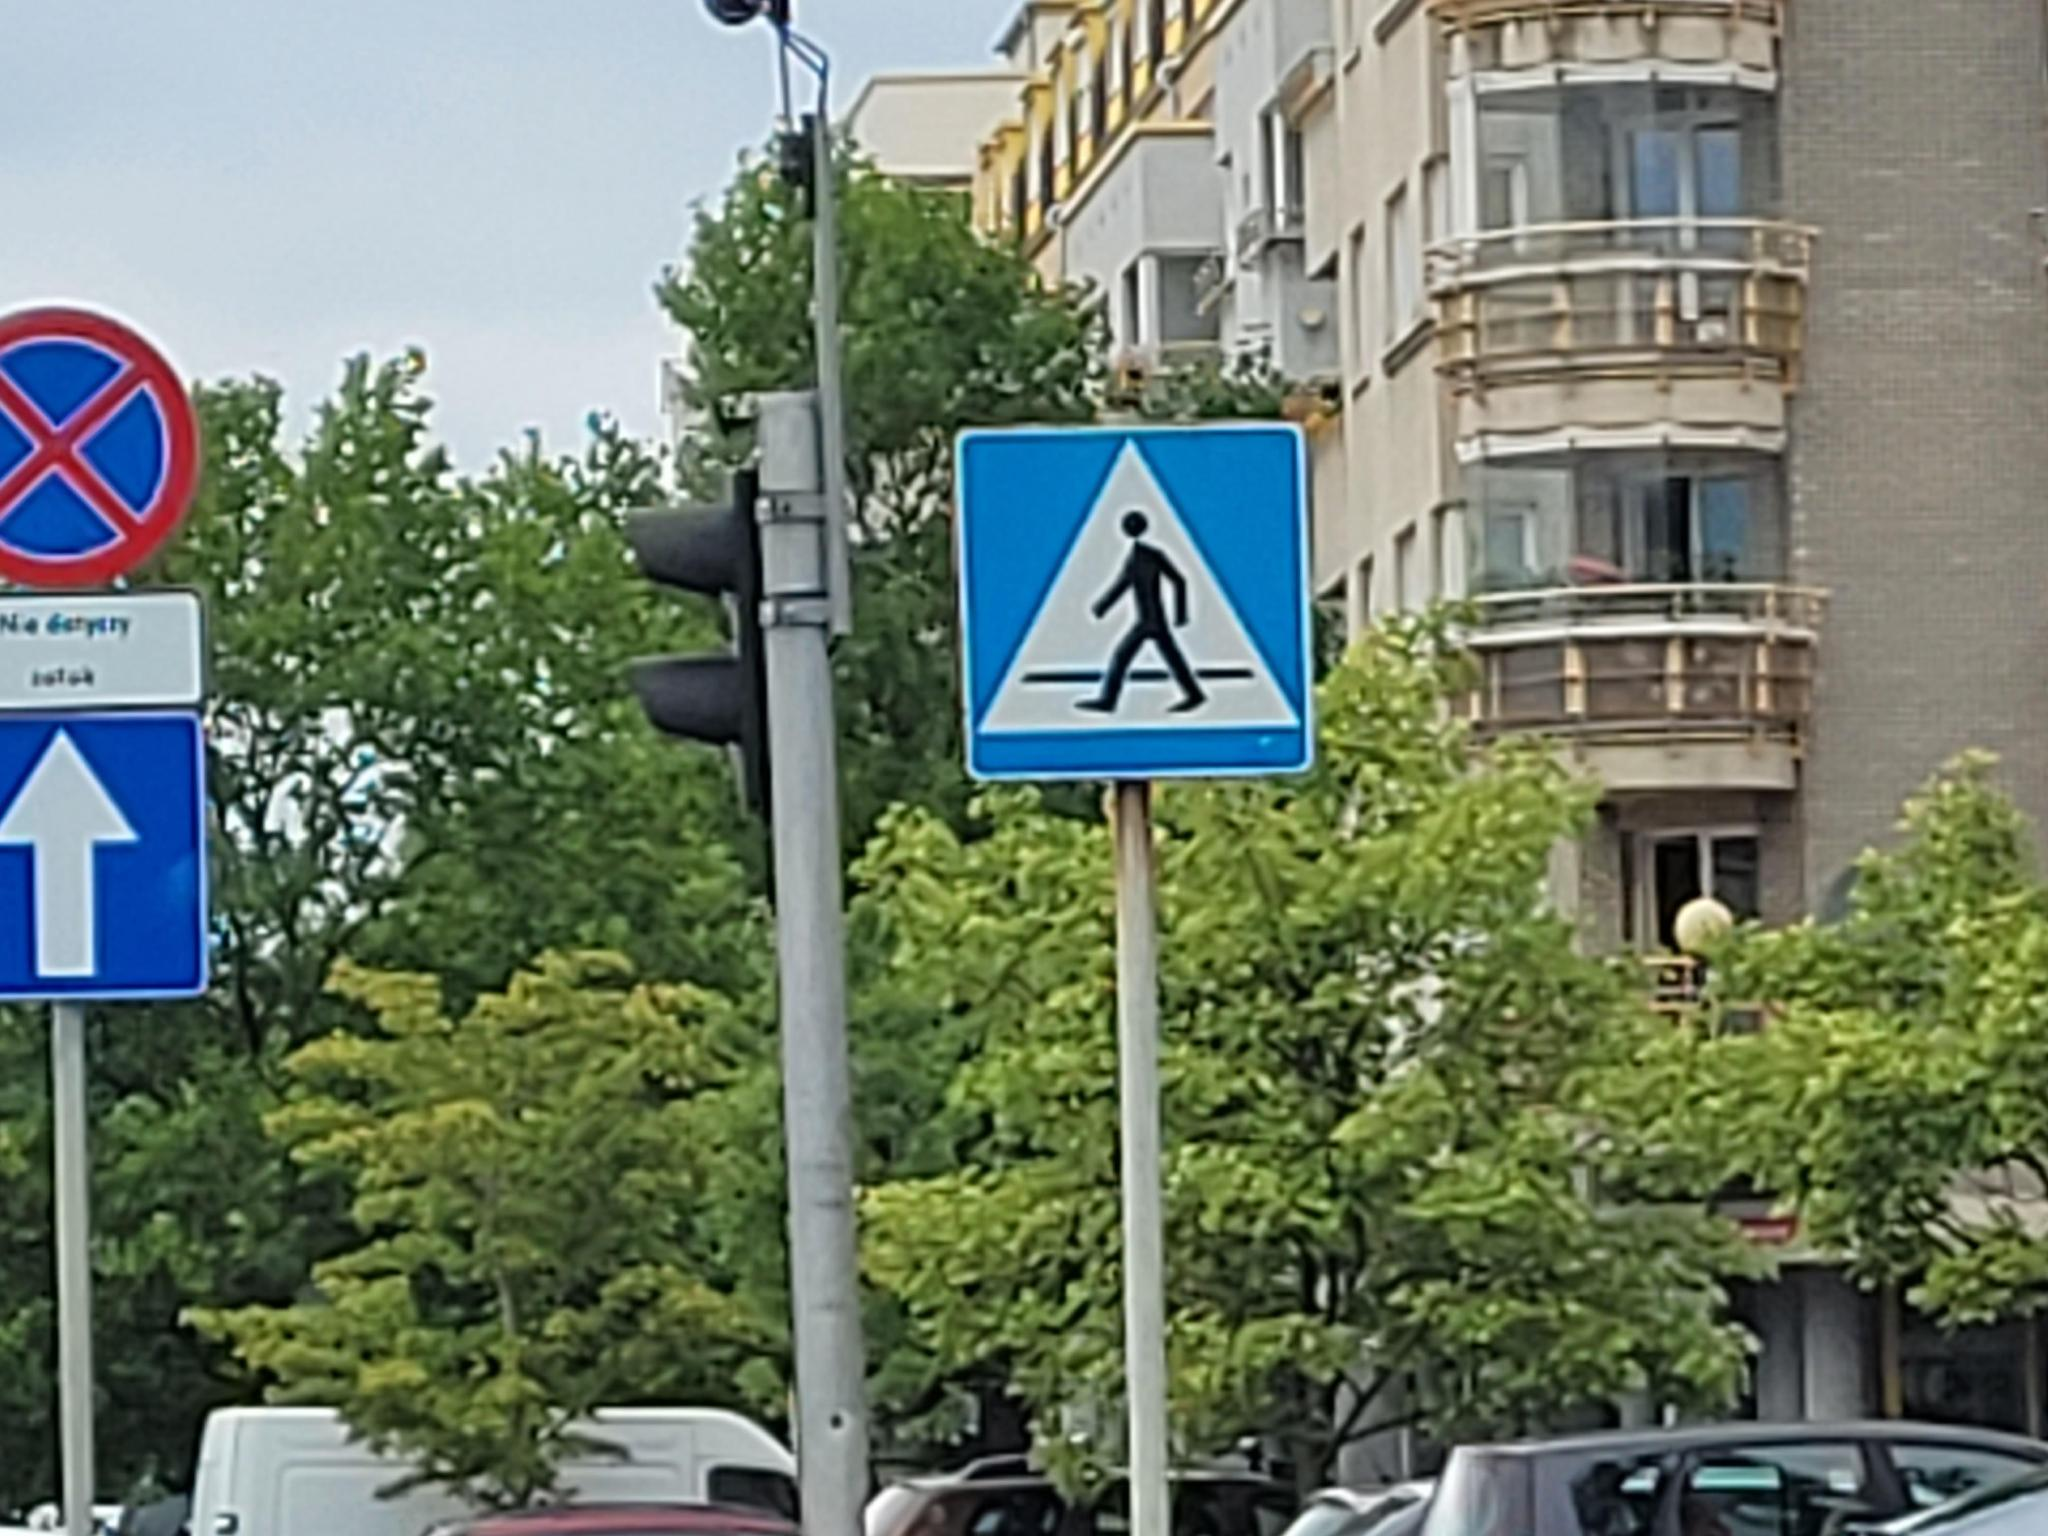information: (961, 428, 1307, 774), (0, 716, 208, 994)
other: (0, 594, 206, 704)
prohibitory: (0, 304, 202, 586)
